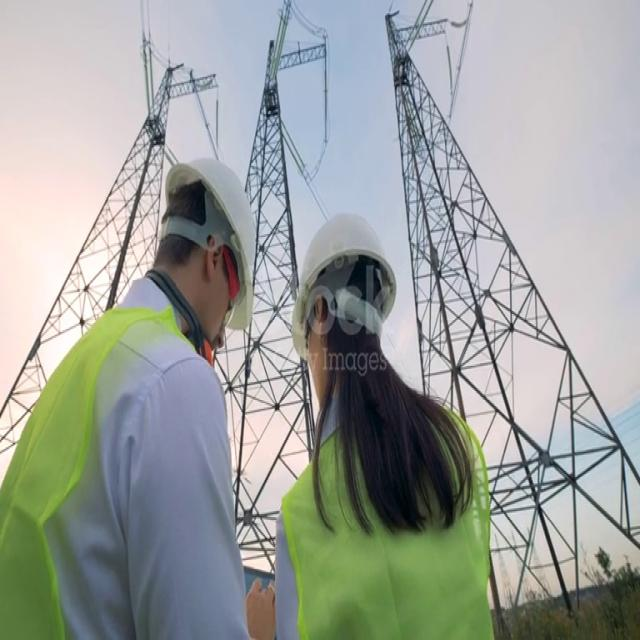capacete: (147, 143, 270, 345), (282, 215, 408, 378)
